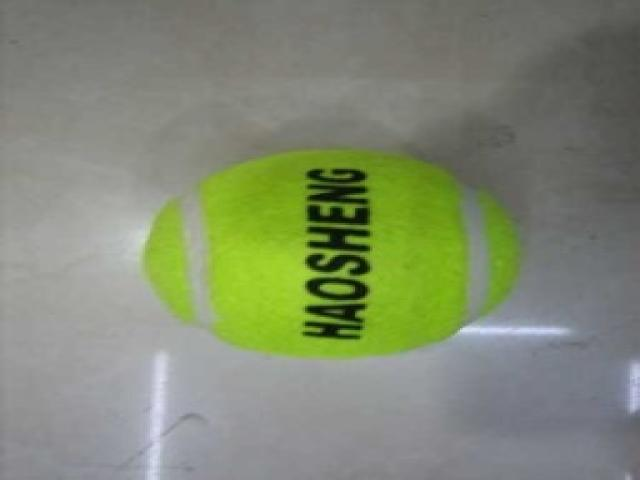tennis-ball: (139, 153, 521, 365)
